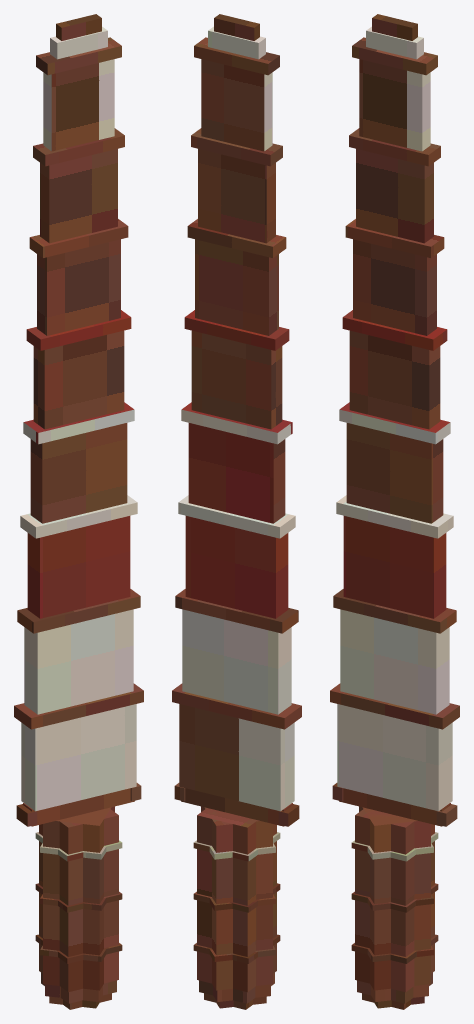
The model's file is bamboo_jian.obj.
3 views of the same model, side by side, from view 1: azimuth 30°, elevation 25°; view 2: azimuth 150°, elevation 25°; view 3: azimuth 330°, elevation 25° (orthographic).
Visible parts, largest first — view 1: bamboo_jian; view 2: bamboo_jian; view 3: bamboo_jian.
Boxes of the visible parts, <box> form: bamboo_jian: <box>14,14,143,1009</box>; bamboo_jian: <box>172,14,301,1009</box>; bamboo_jian: <box>330,14,459,1009</box>.
Size of the model in its own units: 0.1625 by 1.33 by 0.1114.
